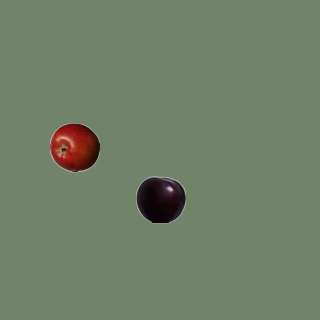Apple Braeburn: (49, 122, 99, 172)
Cherry Wax Black: (135, 174, 185, 224)
